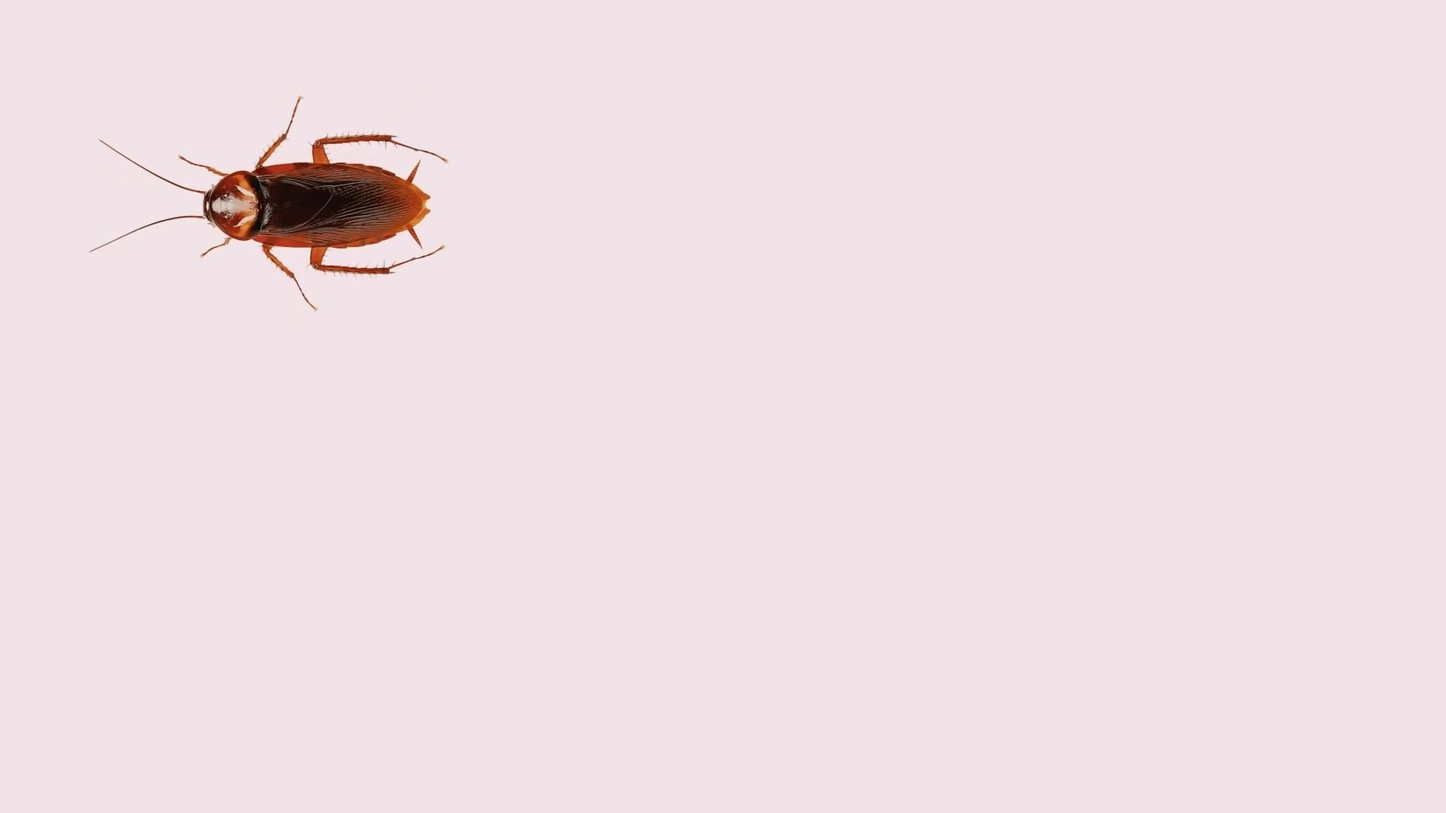cockroach: (76, 106, 457, 305)
